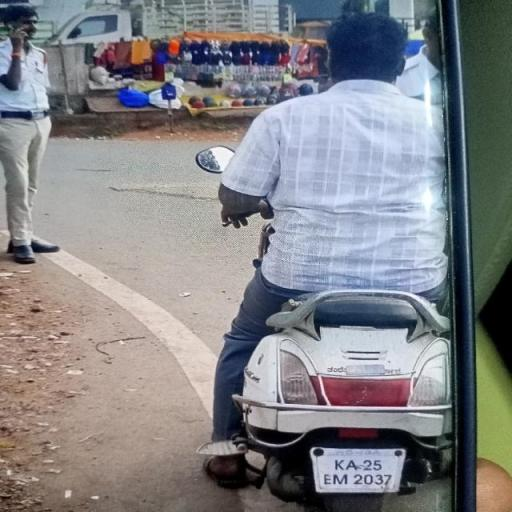bike: (188, 13, 450, 509)
numberplate: (310, 447, 404, 495)
withouthelmet: (331, 16, 406, 82)
